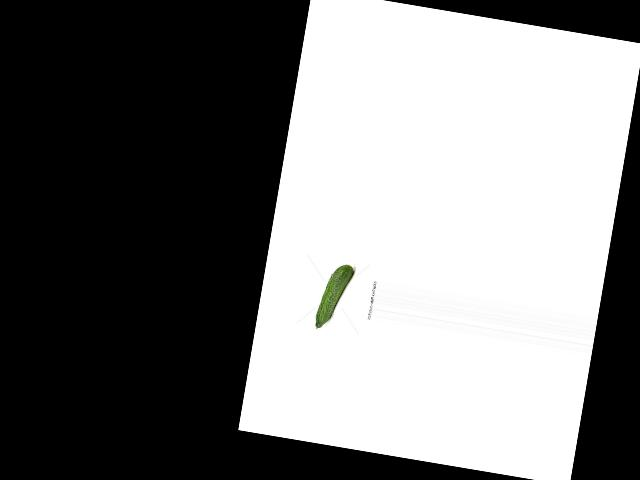cucumber: (314, 261, 354, 333)
